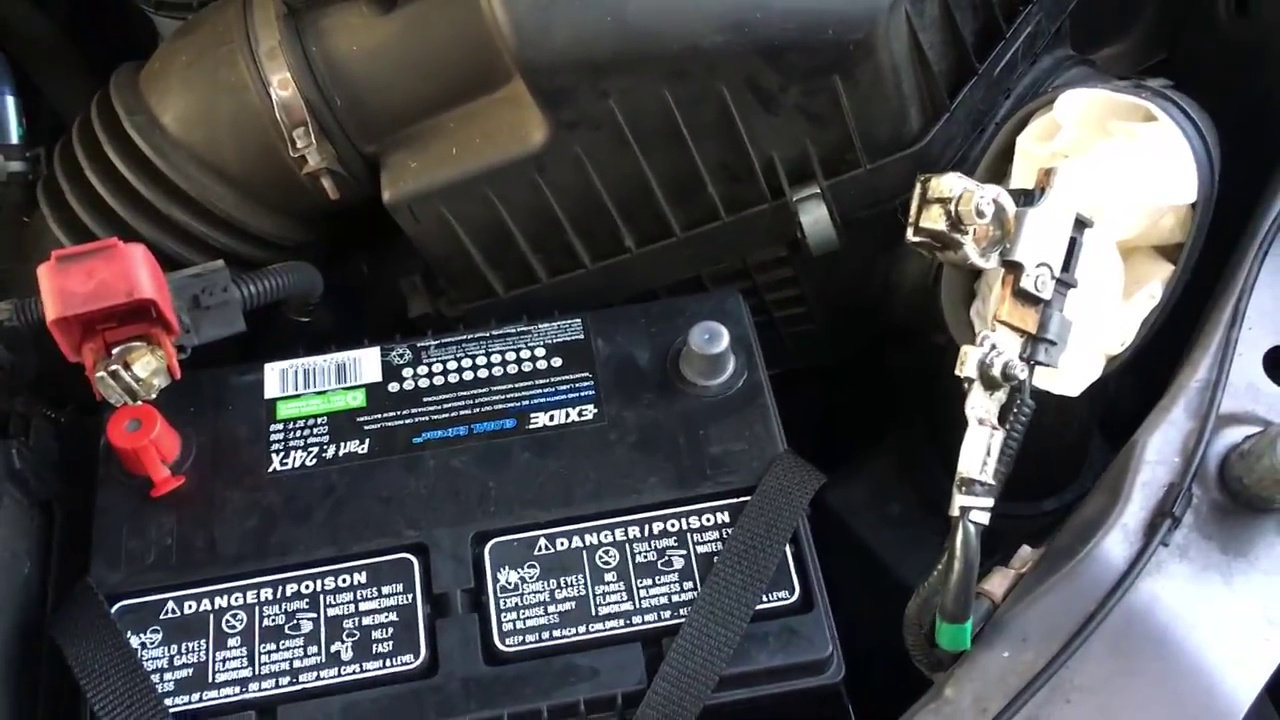battery: (77, 262, 838, 720)
neg_disconnected: (640, 290, 773, 414)
pos_disconnected: (20, 237, 210, 474)
